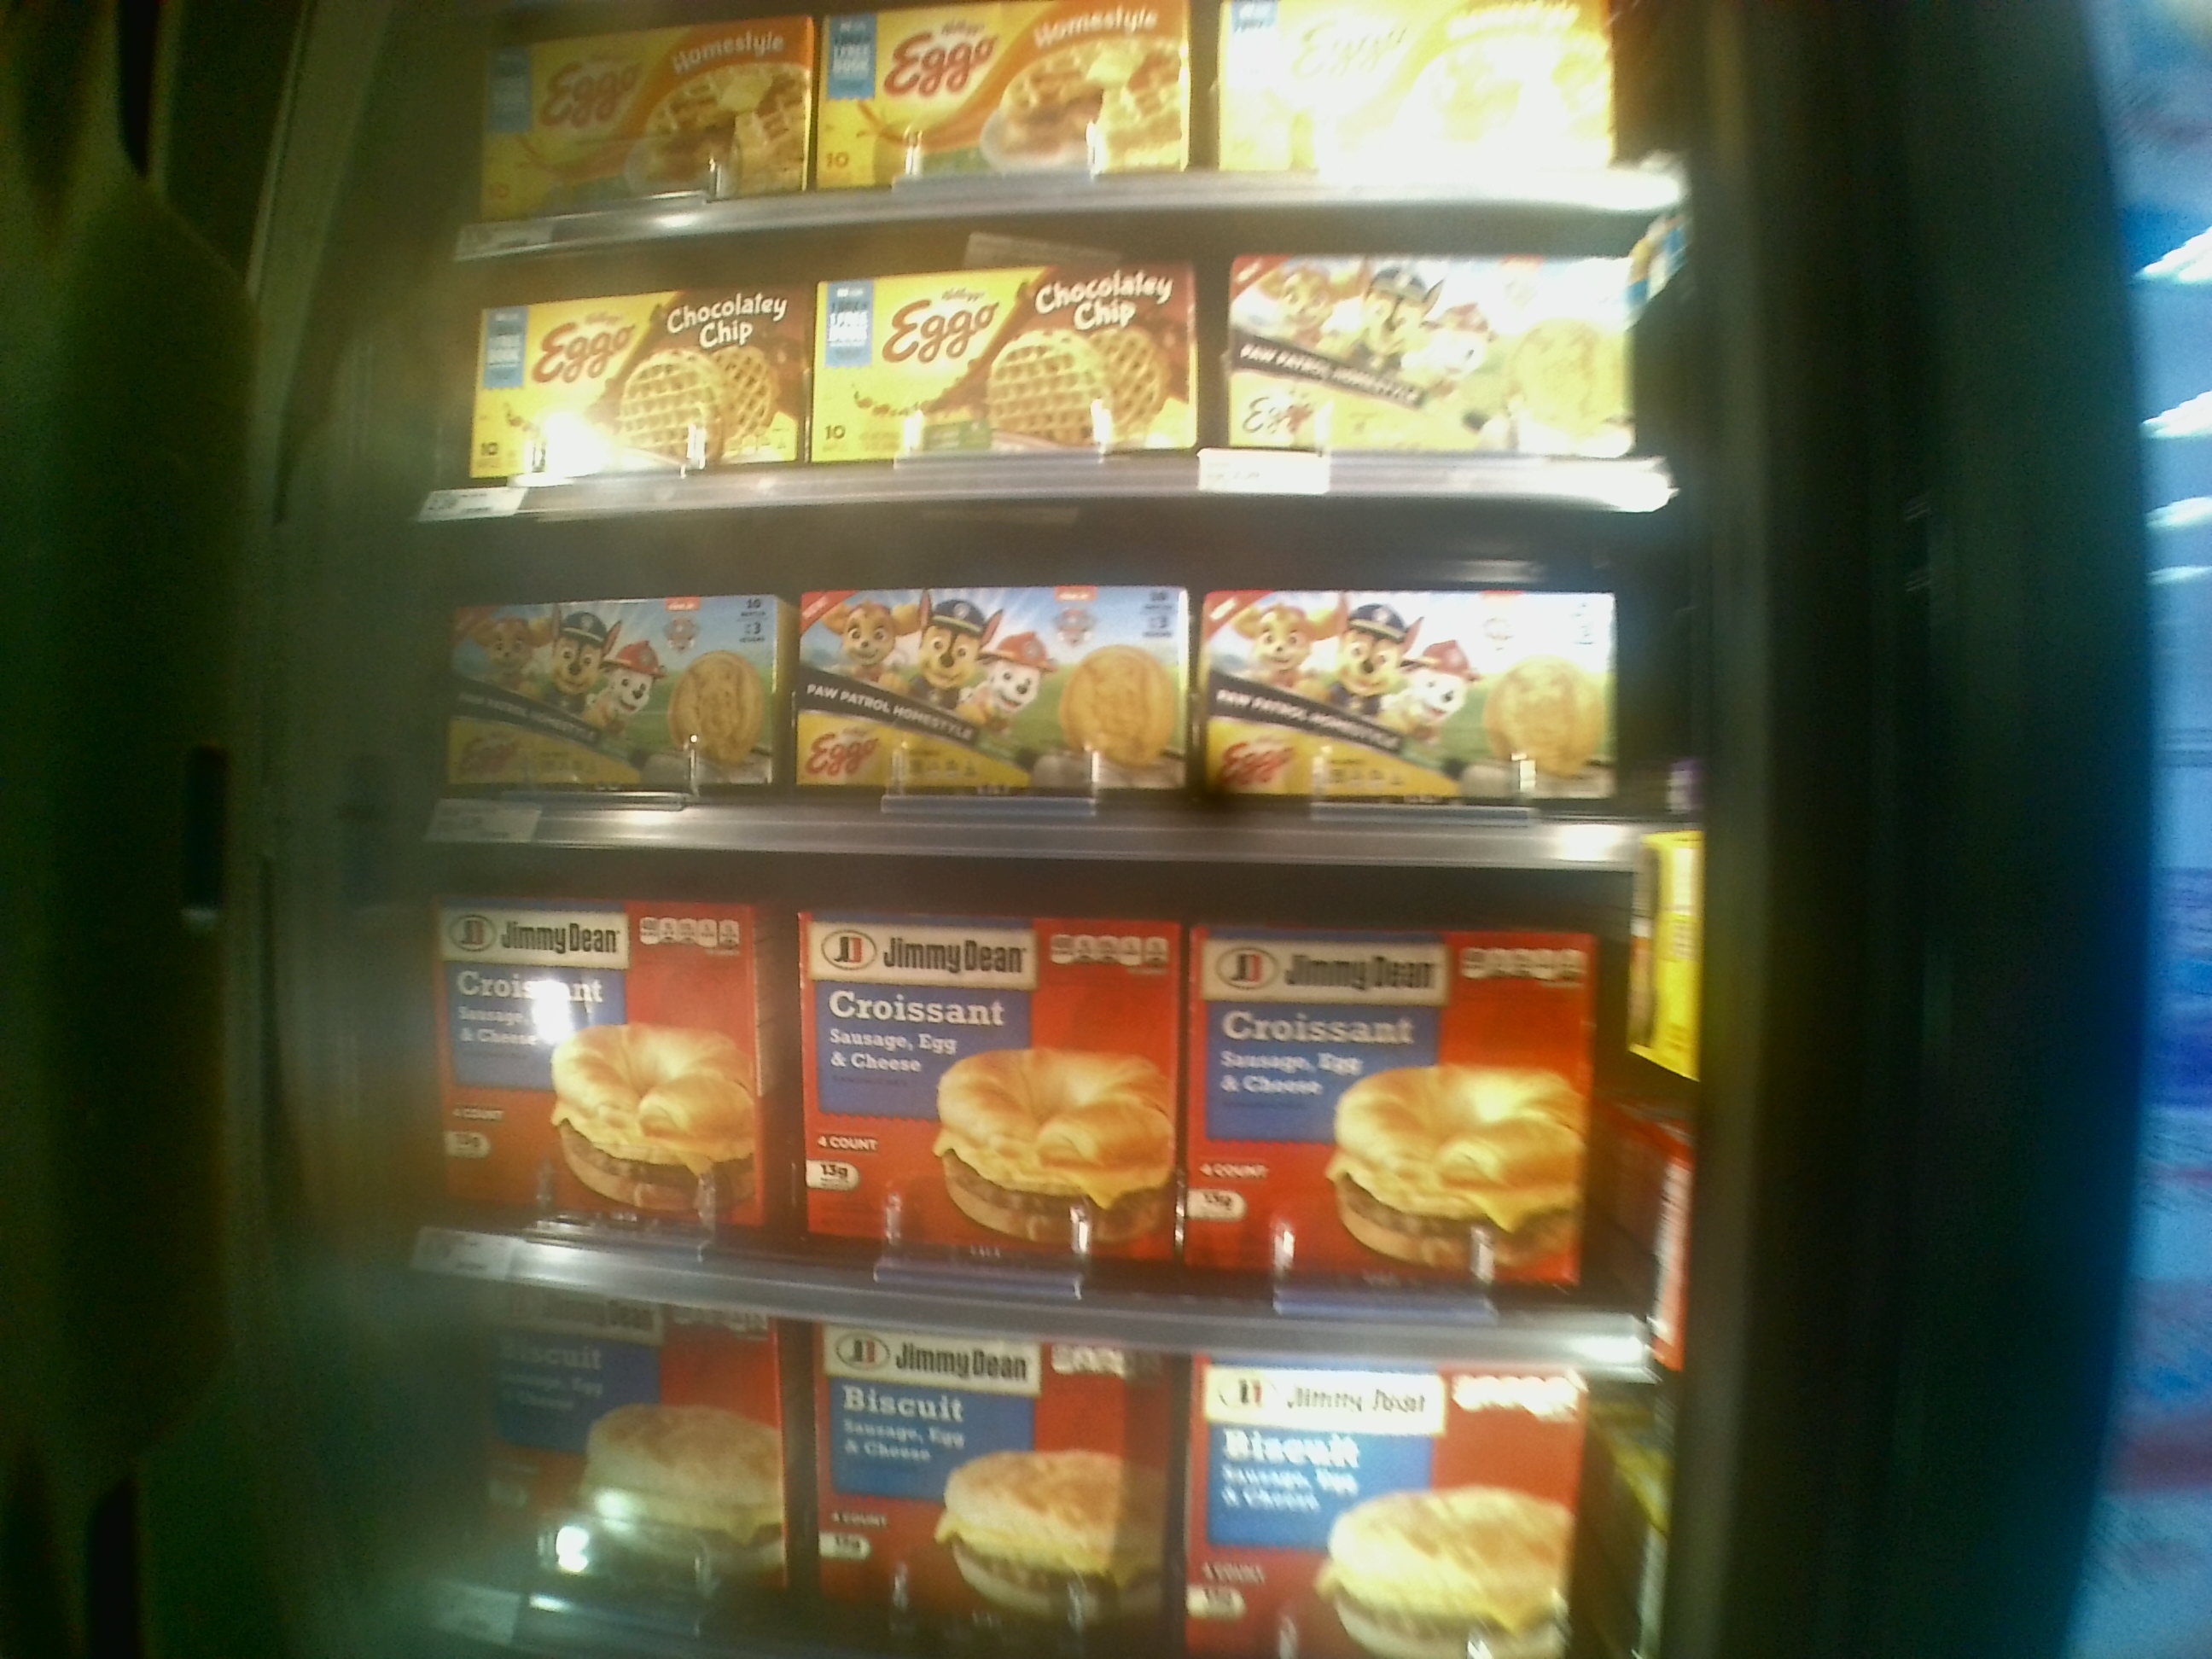shelf: (420, 843, 1696, 1377), (421, 483, 1712, 877)
